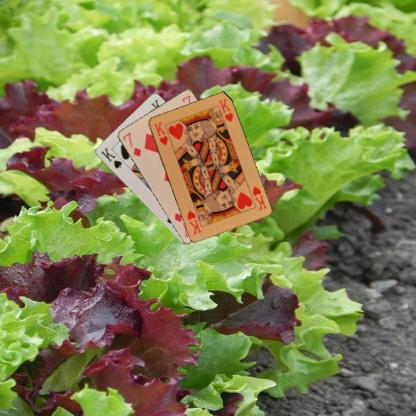7d: (120, 129, 142, 158)
Kh: (249, 183, 268, 212), (151, 119, 169, 147)
Ks: (98, 145, 123, 170)
